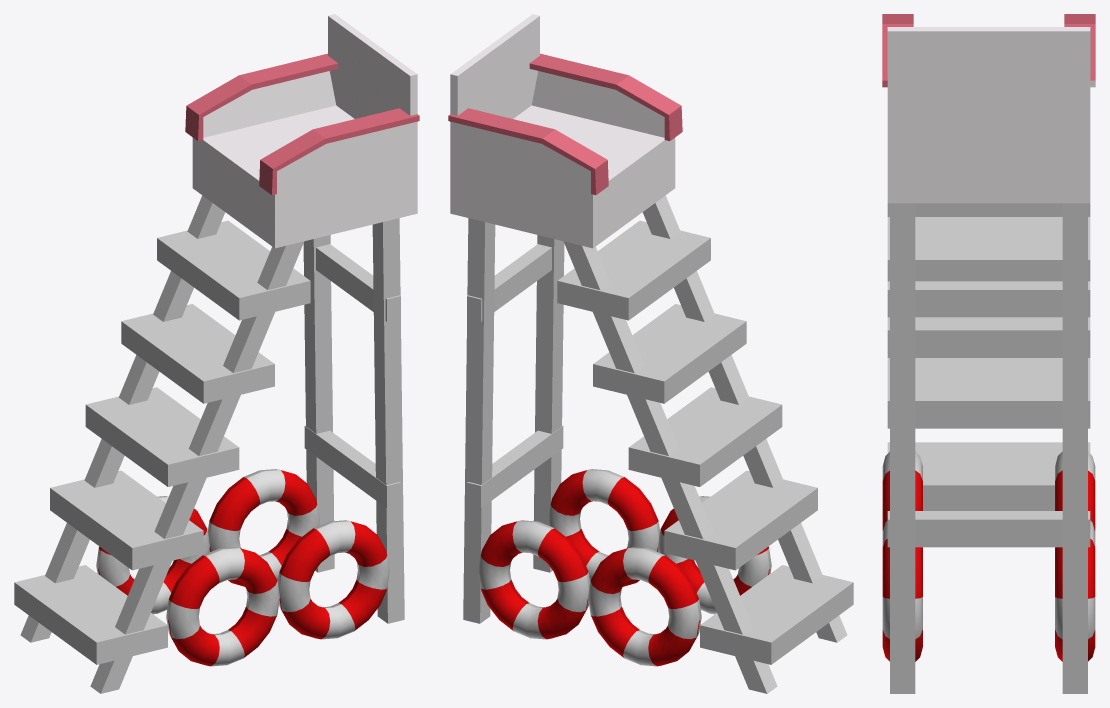
The model's file is Lifeguard Chair.fbx.
The picture shows the model from 3 angles, left to right: view 1: azimuth 30°, elevation 25°; view 2: azimuth 150°, elevation 25°; view 3: azimuth 270°, elevation 25°; orthographic projection. The views are drawn at different scales.
Visible parts, largest first — view 1: Cube.007; view 2: Cube.007; view 3: Cube.007.
Boxes of the visible parts, bbox=[...] form: Cube.007: bbox=[14, 14, 419, 693]; Cube.007: bbox=[448, 14, 853, 693]; Cube.007: bbox=[882, 14, 1095, 693].
Size of the model in its own units: 0.9 by 1.47 by 0.4206.
